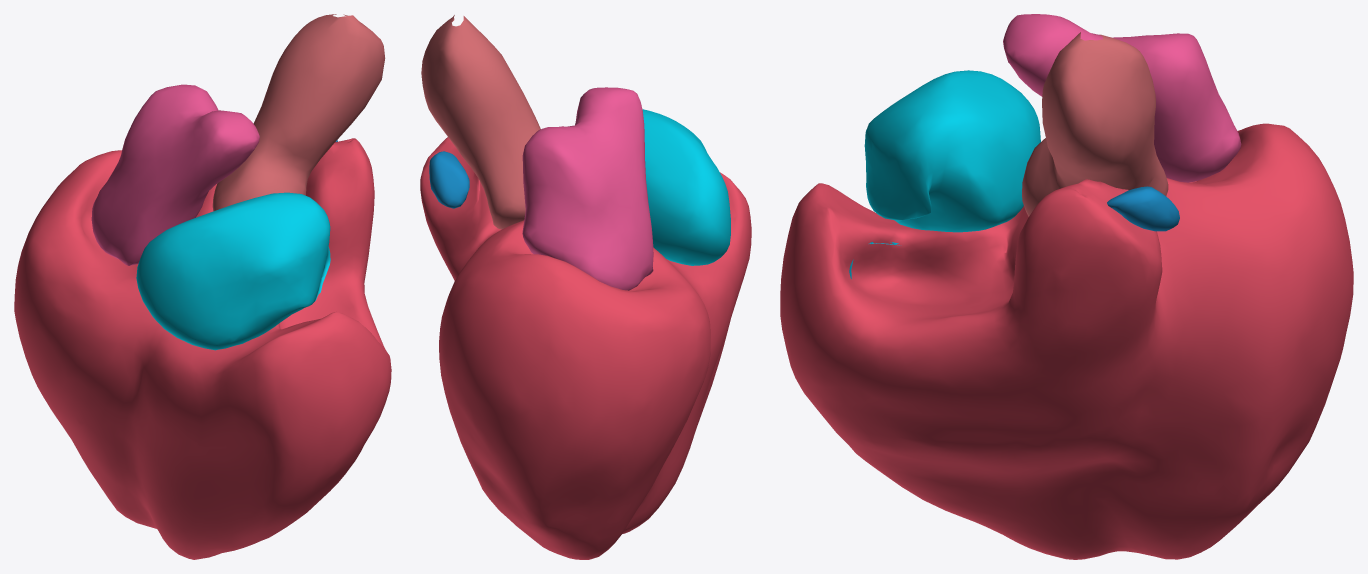
Rendered from frame_61.glb.
3 views of the same model, side by side, from view 1: azimuth 30°, elevation 25°; view 2: azimuth 150°, elevation 25°; view 3: azimuth 270°, elevation 25° (orthographic). The views are drawn at different scales.
Visible parts, largest first — view 1: Renderer Node; view 2: Renderer Node; view 3: Renderer Node.
Boxes of the visible parts, x1,y1,x2,y2 form: Renderer Node: [14, 14, 391, 559]; Renderer Node: [420, 15, 751, 559]; Renderer Node: [780, 14, 1353, 559].
Size of the model in its own units: 106 by 162 by 135.
